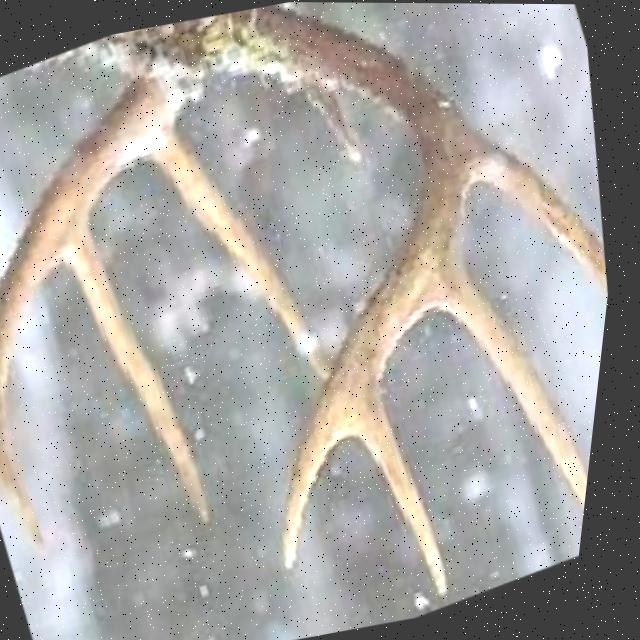L-F: (208, 2, 474, 571)
L-G1: (299, 87, 370, 166)
L-G2: (462, 108, 615, 293)
L-G3: (435, 232, 600, 511)
L-G4: (359, 384, 466, 606)
R-F: (0, 73, 206, 552)
R-G1: (141, 112, 339, 381)
R-G2: (67, 213, 225, 529)
